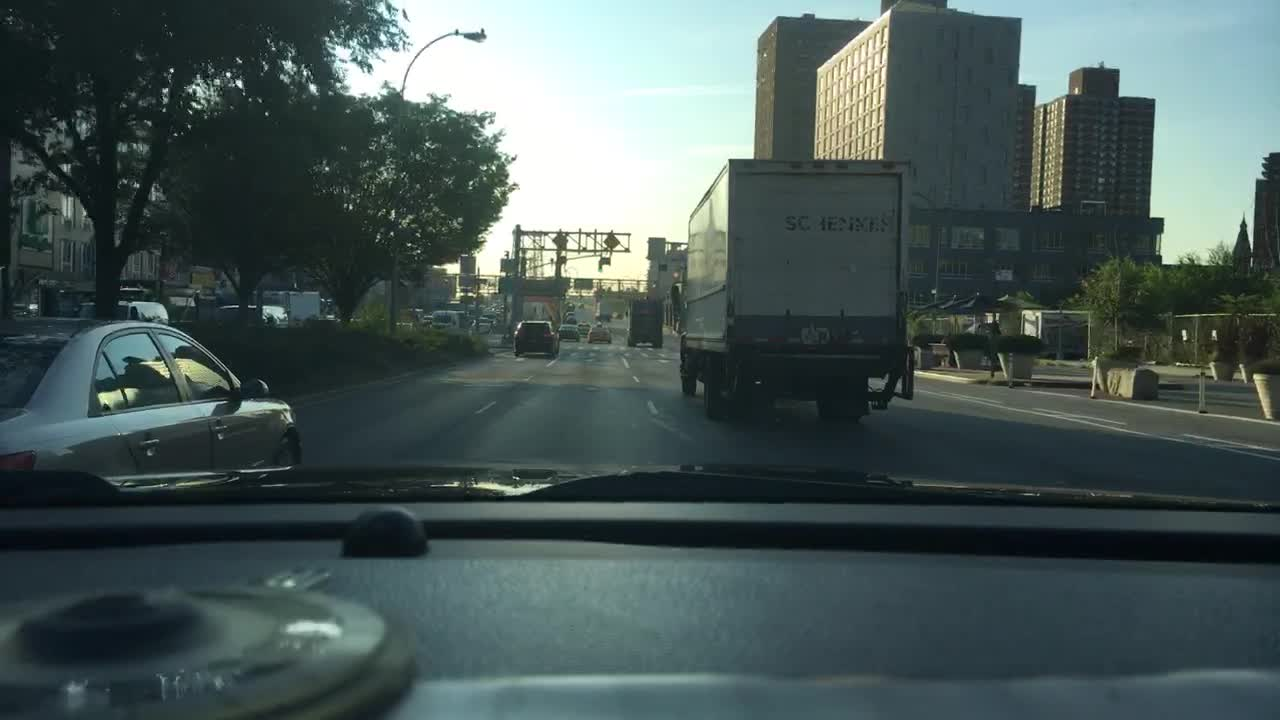car: (0, 321, 302, 481), (80, 299, 170, 328), (509, 316, 562, 357), (227, 303, 291, 329), (429, 307, 458, 329), (468, 316, 492, 334), (406, 305, 428, 324), (588, 325, 608, 345), (558, 321, 580, 339), (577, 320, 593, 332)
traffic sign: (649, 238, 664, 260), (458, 257, 476, 274), (500, 276, 515, 292), (552, 231, 566, 247), (604, 233, 617, 249), (503, 254, 514, 271)
truck: (670, 154, 917, 423), (259, 290, 328, 323), (628, 294, 665, 347), (593, 298, 611, 317)
